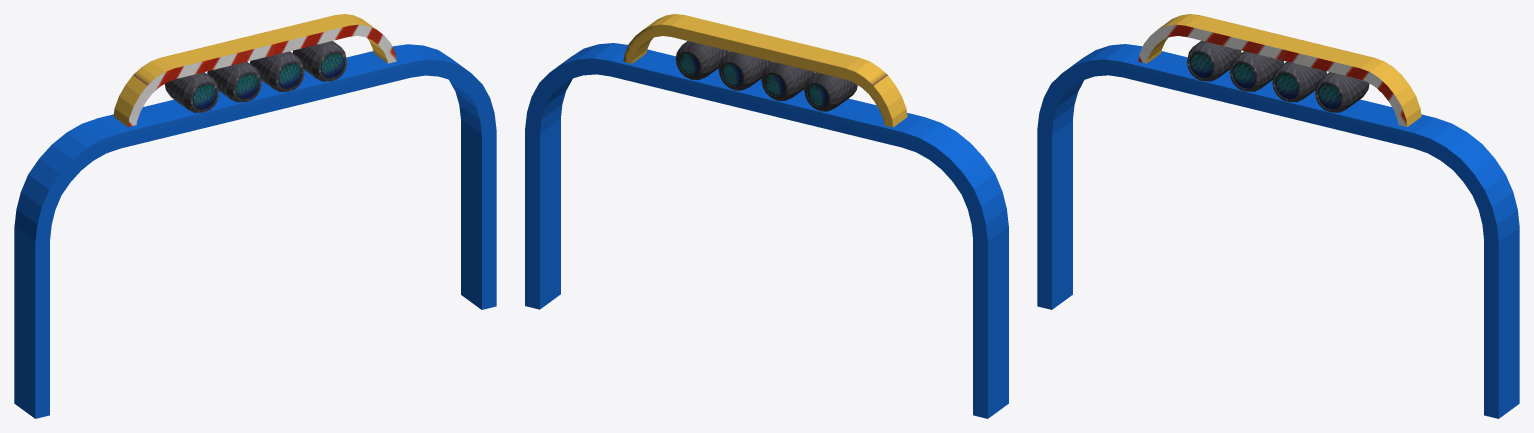
The model's file is WayPoints.FBX.
3 renders of one model, left to right at view 1: azimuth 30°, elevation 25°; view 2: azimuth 150°, elevation 25°; view 3: azimuth 330°, elevation 25°, orthographic.
Visible parts, largest first — view 1: WayPoints; view 2: WayPoints; view 3: WayPoints.
Part boxes in pixels (box(x1,y1,x2,y2)): WayPoints: box(14, 14, 496, 418); WayPoints: box(525, 14, 1008, 418); WayPoints: box(1037, 14, 1519, 418).
Size of the model in its own units: 13.73 by 8.89 by 1.39.
